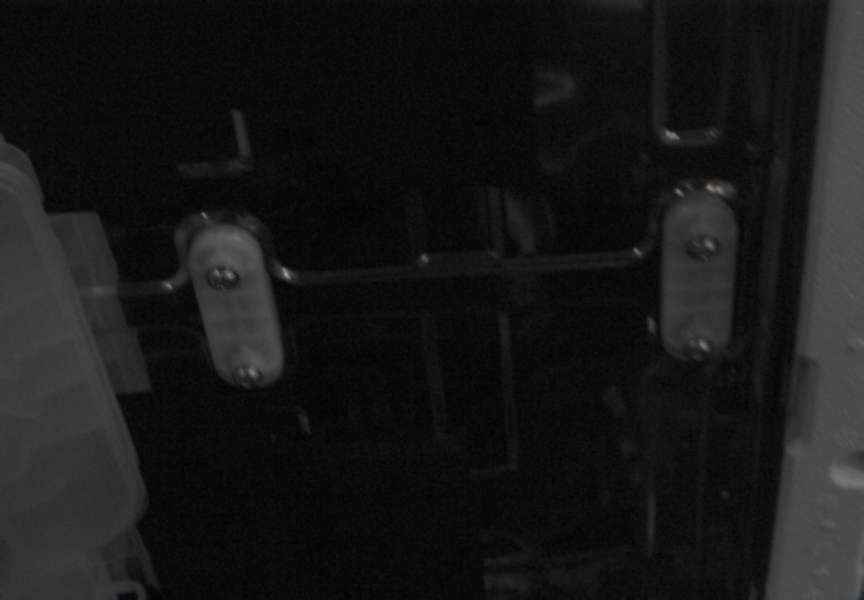screw: (686, 234, 720, 262), (206, 265, 240, 291), (682, 337, 714, 362), (232, 365, 263, 390)
